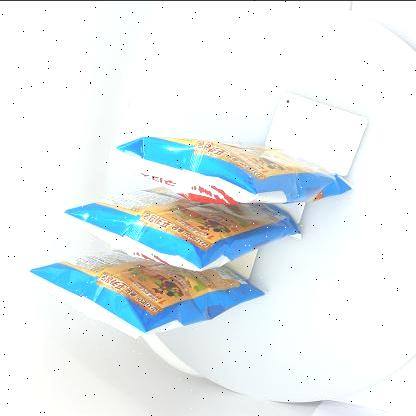Others: (11, 89, 369, 352)
